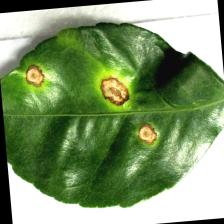canker: (24, 54, 164, 152)
